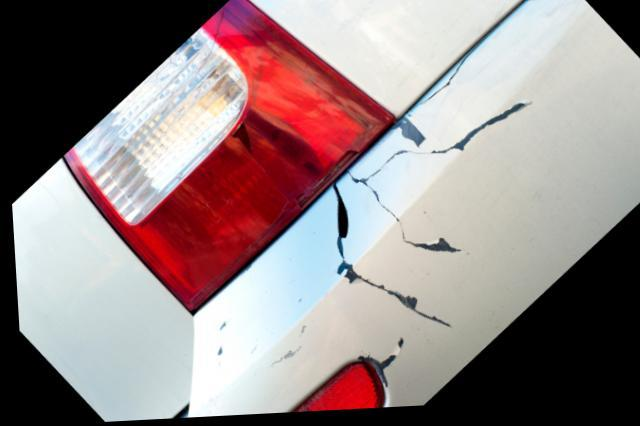crack: (345, 107, 524, 258), (330, 186, 449, 332), (410, 27, 500, 115)
lamp broken: (62, 0, 394, 317)
